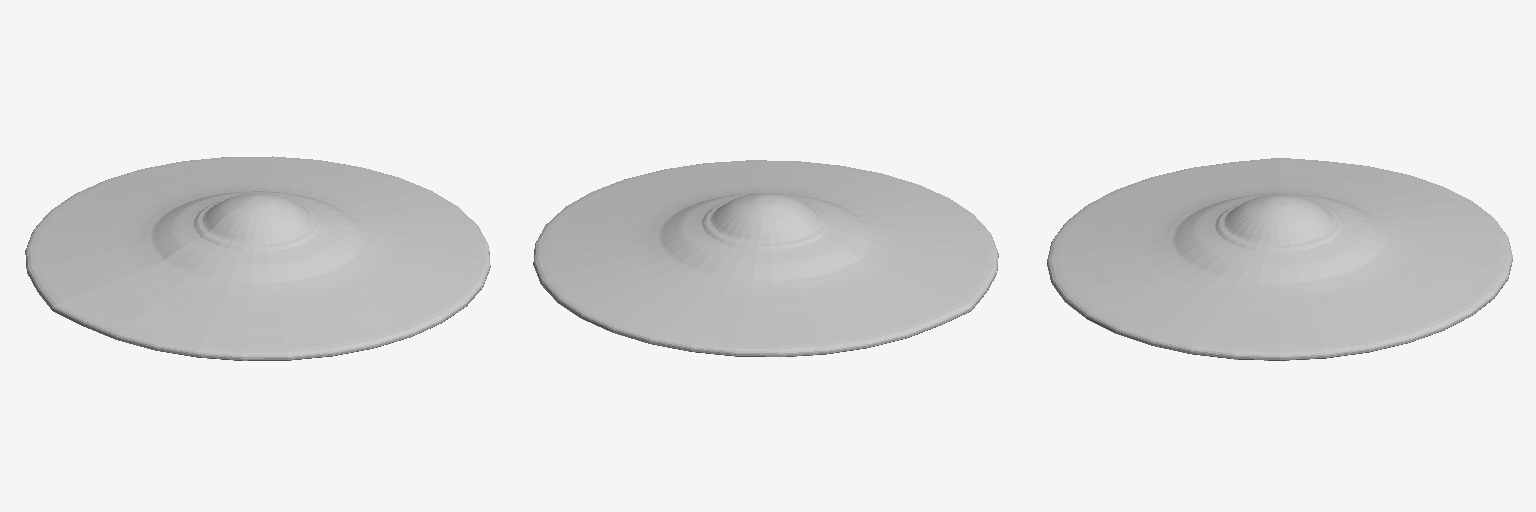
File: ovni.obj
3 renders of one model, left to right at view 1: azimuth 30°, elevation 25°; view 2: azimuth 150°, elevation 25°; view 3: azimuth 270°, elevation 25°, orthographic.
Parts seen in each view (by area): view 1: Mesh_Mesh_ShapeIndexedFaceSet.000; view 2: Mesh_Mesh_ShapeIndexedFaceSet.000; view 3: Mesh_Mesh_ShapeIndexedFaceSet.000.
Part boxes in pixels (bbox=[...]): Mesh_Mesh_ShapeIndexedFaceSet.000: bbox=[25, 156, 490, 360]; Mesh_Mesh_ShapeIndexedFaceSet.000: bbox=[533, 160, 998, 356]; Mesh_Mesh_ShapeIndexedFaceSet.000: bbox=[1047, 158, 1512, 360].
Bounding box in the file's own units: 6.47 × 1.68 × 6.41.